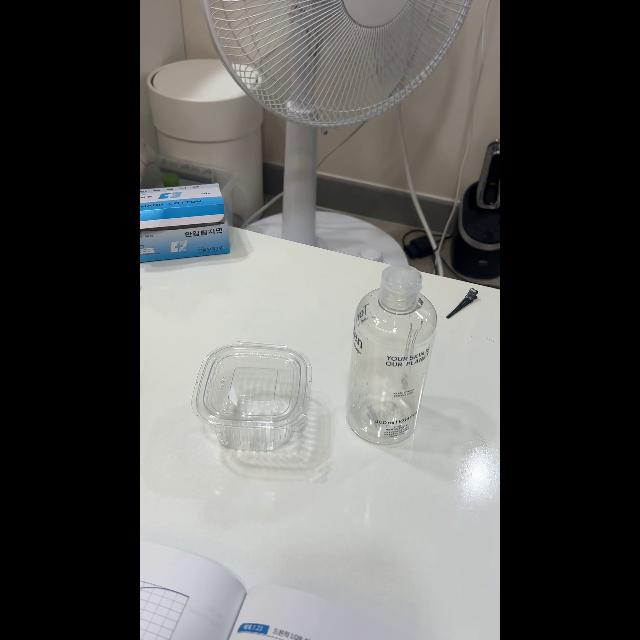clean: (355, 268, 437, 444), (200, 347, 310, 453)
